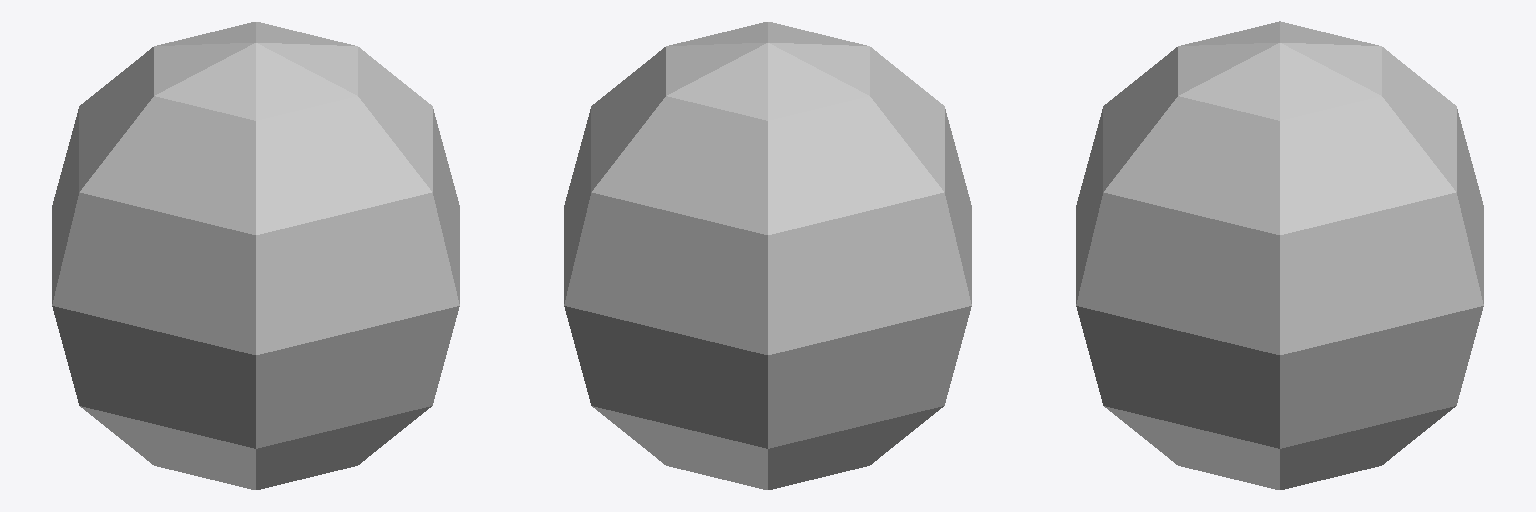
The model's file is bright.obj.
The picture shows the model from 3 angles: view 1: azimuth 30°, elevation 25°; view 2: azimuth 150°, elevation 25°; view 3: azimuth 270°, elevation 25°; orthographic projection.
Parts seen in each view (by area): view 1: pSphere68; view 2: pSphere68; view 3: pSphere68.
Part boxes in pixels (left/top/right/bottom): pSphere68: left=52, top=22, right=459, bottom=489; pSphere68: left=564, top=22, right=971, bottom=489; pSphere68: left=1076, top=21, right=1483, bottom=489.
Bounding box in the file's own units: 0.1423 × 0.1423 × 0.1232.